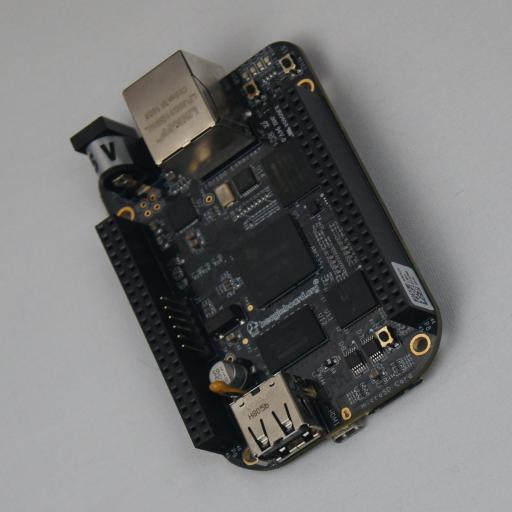Beaglebone Black: (70, 41, 450, 471)
